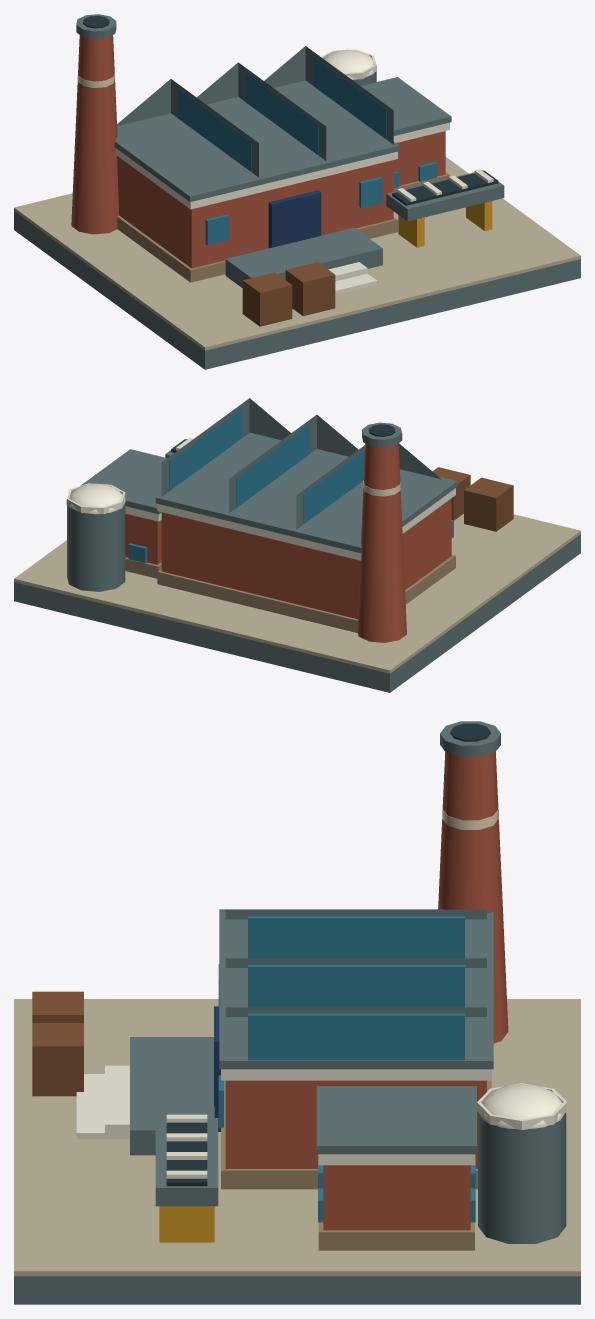
File: factory-lv2.glb
The picture shows the model from 3 angles, top to bottom: view 1: azimuth 30°, elevation 25°; view 2: azimuth 150°, elevation 25°; view 3: azimuth 270°, elevation 25°; orthographic projection. The views are drawn at different scales.
Parts seen in each view (by area): view 1: foundation_paving, main_workshop_roof_iron, main_workshop_clay, foundation_iron, chimney_clay, main_workshop_skylights_glass, main_workshop_sawtooth_iron, loading_platform_iron, supply_crates_wood, warehouse_roof_iron, main_workshop_loading_door_naval, main_workshop_white (+10 smaller); view 2: foundation_paving, main_workshop_clay, main_workshop_roof_iron, foundation_iron, chimney_clay, main_workshop_skylights_glass, main_workshop_sawtooth_iron, supply_tank_iron, main_workshop_stoneDark, supply_crates_wood, warehouse_roof_iron, main_workshop_white (+4 smaller); view 3: foundation_paving, main_workshop_skylights_glass, foundation_iron, warehouse_roof_iron, main_workshop_roof_iron, chimney_clay, supply_tank_iron, warehouse_clay, main_workshop_clay, loading_platform_iron, main_workshop_sawtooth_iron, supply_crates_wood (+11 smaller).
Part boxes in pixels (bbox=[...]): foundation_paving: bbox=[14, 157, 580, 350]; main_workshop_roof_iron: bbox=[114, 80, 399, 201]; main_workshop_clay: bbox=[117, 156, 393, 268]; foundation_iron: bbox=[14, 211, 580, 369]; chimney_clay: bbox=[71, 35, 119, 234]; main_workshop_skylights_glass: bbox=[178, 56, 386, 171]; main_workshop_sawtooth_iron: bbox=[117, 46, 393, 177]; loading_platform_iron: bbox=[225, 227, 382, 287]; supply_crates_wood: bbox=[242, 262, 335, 326]; warehouse_roof_iron: bbox=[361, 77, 451, 135]; main_workshop_loading_door_naval: bbox=[268, 190, 321, 248]; main_workshop_white: bbox=[115, 148, 397, 209]; foundation_paving: bbox=[14, 514, 580, 673]; main_workshop_clay: bbox=[161, 498, 451, 619]; main_workshop_roof_iron: bbox=[155, 432, 457, 553]; foundation_iron: bbox=[14, 534, 580, 692]; chimney_clay: bbox=[358, 443, 406, 642]; main_workshop_skylights_glass: bbox=[169, 408, 364, 523]; main_workshop_sawtooth_iron: bbox=[161, 398, 440, 529]; supply_tank_iron: bbox=[67, 504, 125, 591]; main_workshop_stoneDark: bbox=[157, 555, 455, 632]; supply_crates_wood: bbox=[432, 467, 513, 531]; warehouse_roof_iron: bbox=[80, 449, 166, 514]; main_workshop_white: bbox=[157, 488, 455, 560]; foundation_paving: bbox=[14, 999, 580, 1276]; main_workshop_skylights_glass: bbox=[248, 916, 464, 1060]; foundation_iron: bbox=[14, 1276, 580, 1304]; warehouse_roof_iron: bbox=[316, 1086, 476, 1154]; main_workshop_roof_iron: bbox=[219, 909, 493, 1069]; chimney_clay: bbox=[438, 752, 508, 1043]; supply_tank_iron: bbox=[478, 1112, 566, 1243]; warehouse_clay: bbox=[323, 1165, 470, 1230]; main_workshop_clay: bbox=[225, 1080, 486, 1168]; loading_platform_iron: bbox=[130, 1037, 214, 1155]; main_workshop_sawtooth_iron: bbox=[225, 909, 486, 1016]; supply_crates_wood: bbox=[32, 991, 83, 1096].
Size of the model in its own units: 1 by 0.5711 by 0.88.
